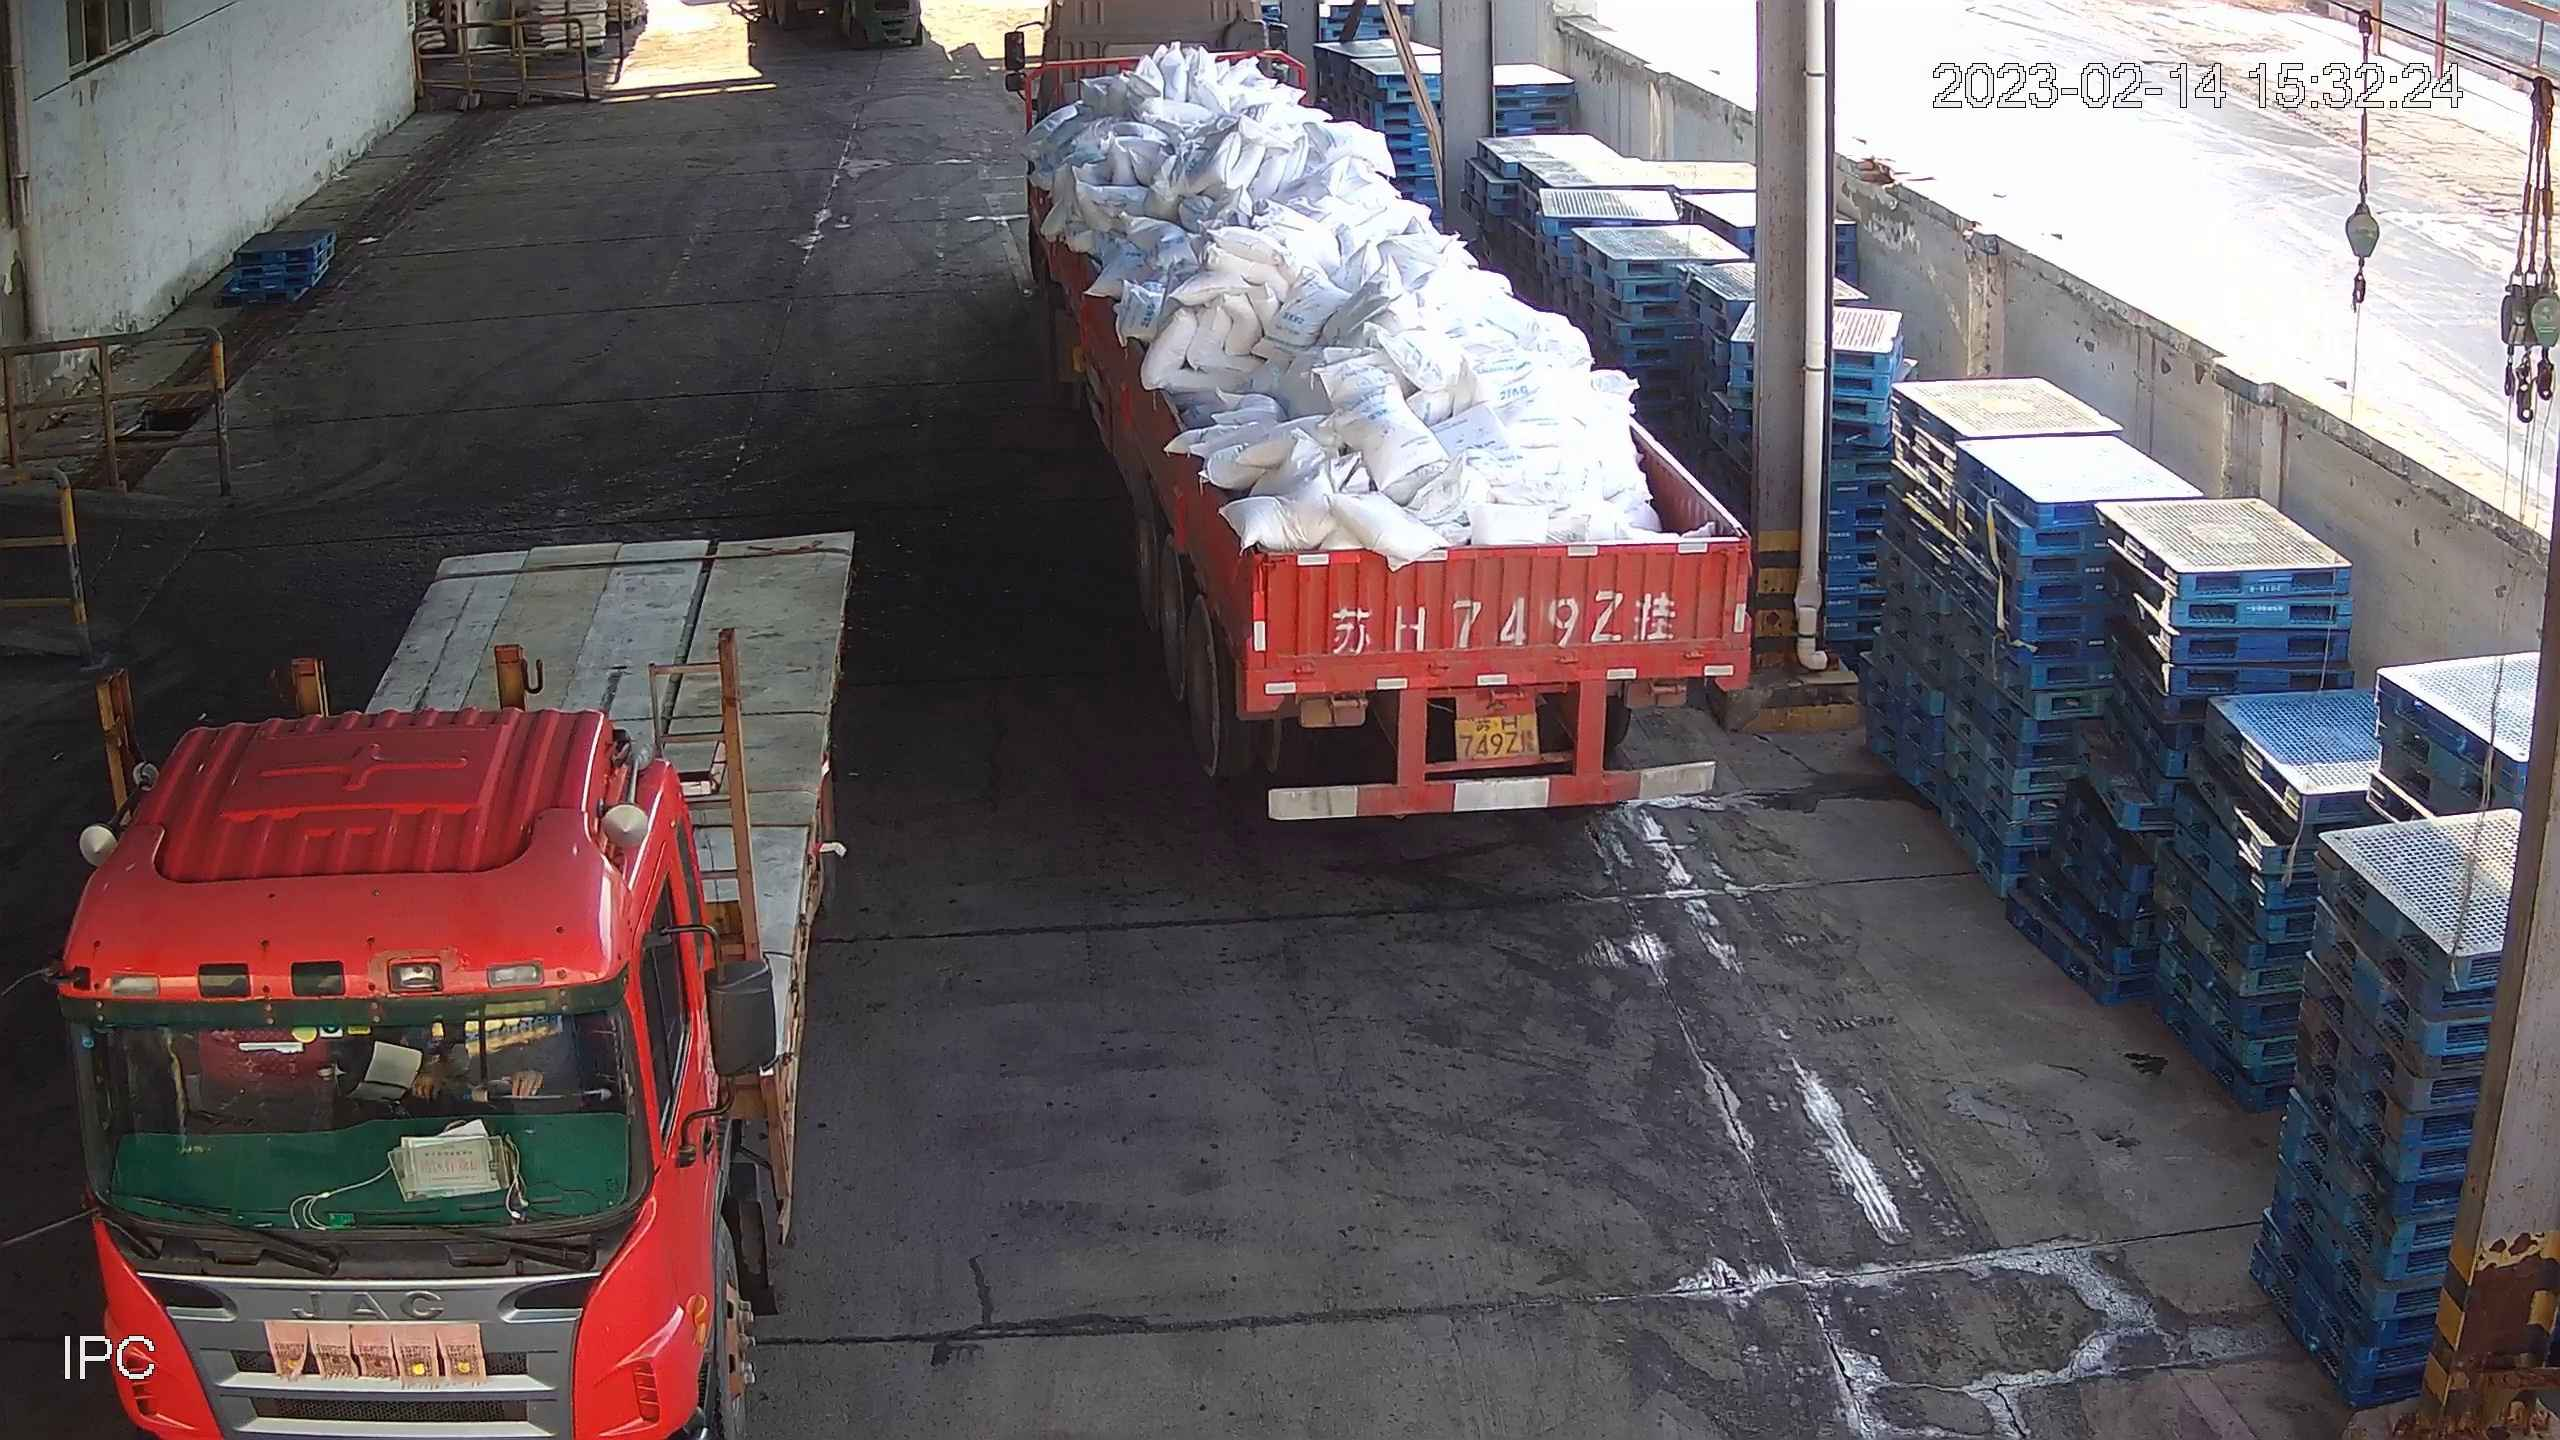truck: (47, 387, 851, 1440), (995, 2, 1749, 814)
